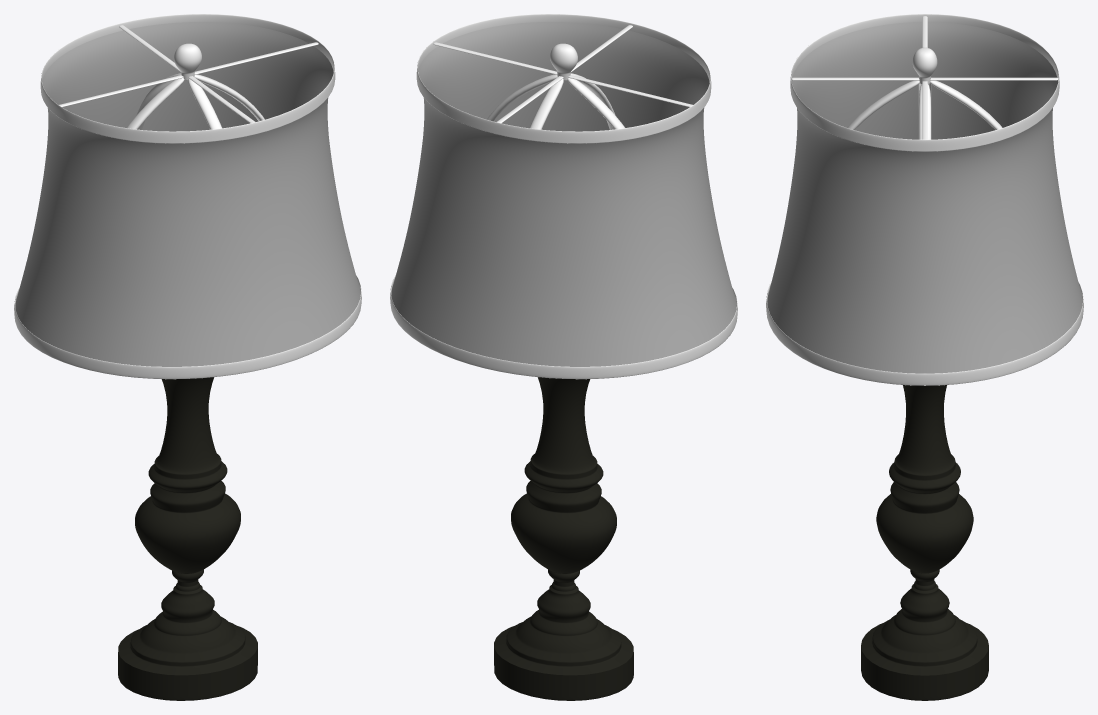
File: Lamp.fbx
The picture shows the model from 3 angles, left to right: view 1: azimuth 30°, elevation 25°; view 2: azimuth 150°, elevation 25°; view 3: azimuth 270°, elevation 25°; orthographic projection.
Visible parts, largest first — view 1: Shade, Base; view 2: Shade, Base; view 3: Shade, Base.
Boxes of the visible parts, bbox=[...] form: Shade: bbox=[14, 14, 361, 379]; Base: bbox=[118, 377, 257, 700]; Shade: bbox=[390, 14, 737, 379]; Base: bbox=[494, 377, 633, 700]; Shade: bbox=[766, 14, 1083, 385]; Base: bbox=[861, 385, 988, 700].
Size of the model in its own units: 246 by 479 by 222.
